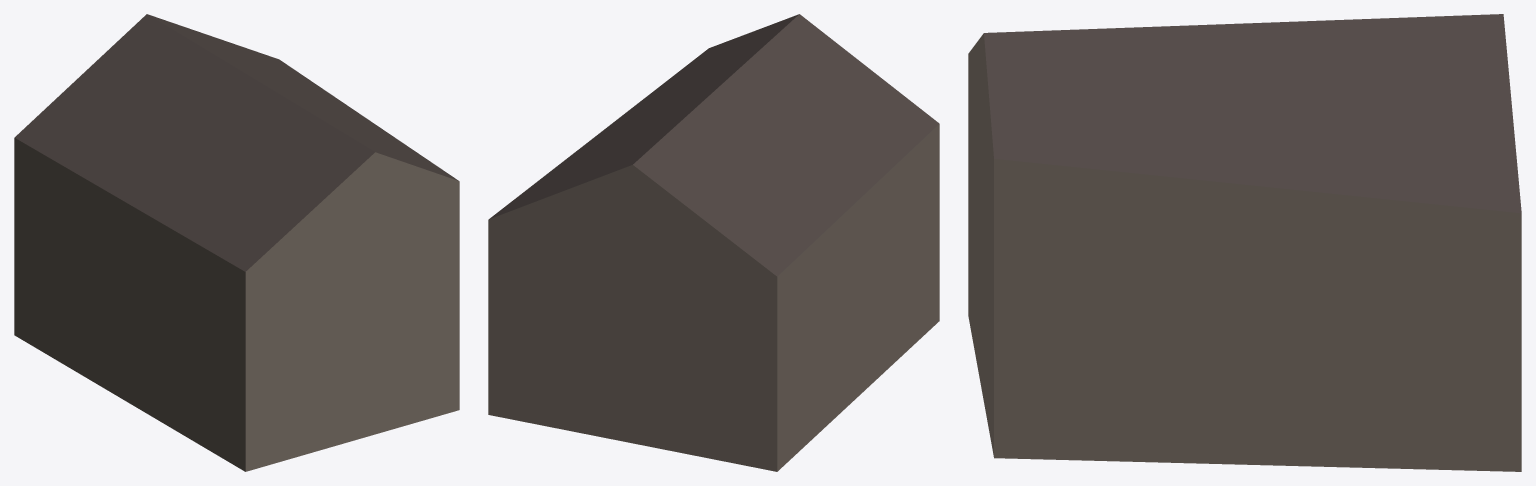
3 views of the same model, side by side, from view 1: azimuth 30°, elevation 25°; view 2: azimuth 150°, elevation 25°; view 3: azimuth 270°, elevation 25° (orthographic). The views are drawn at different scales.
Parts seen in each view (by area): view 1: HP-w1512965890; view 2: HP-w1512965890; view 3: HP-w1512965890.
Part boxes in pixels (x1,y1,x2,y2): HP-w1512965890: (14, 14, 459, 471); HP-w1512965890: (488, 14, 939, 471); HP-w1512965890: (968, 14, 1521, 471).
Bounding box in the file's own units: 8.85 × 8.56 × 11.64.
